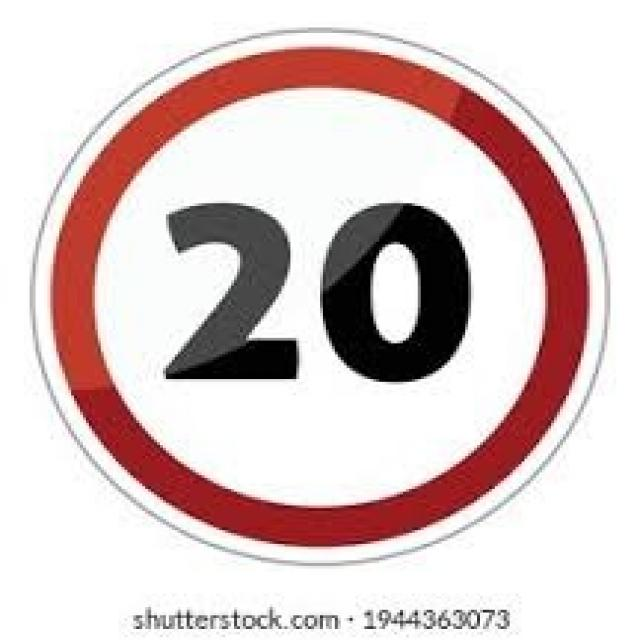speed_limit_20: (34, 16, 616, 570)
